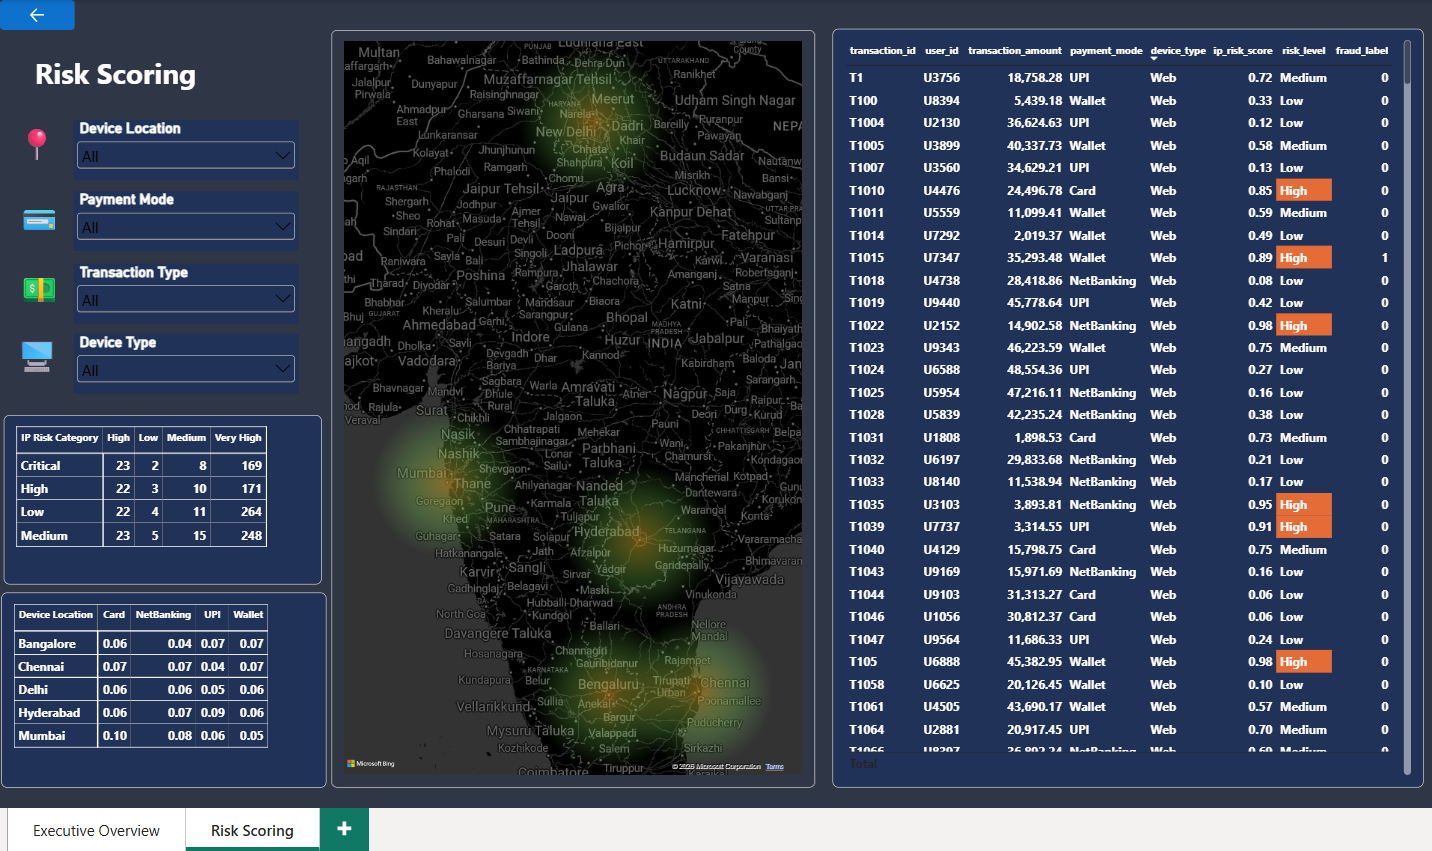

Layout of this report page (visuals, bound fields, positions):
{"tool":"powerbi","page":{"name":"Risk Scoring","canvas":[1920,1080],"ordinal":1},"visuals":[{"type":"tableEx","fields":{"Values":["02_Risk_Scored.transaction_id","02_Risk_Scored.user_id","02_Risk_Scored.transaction_amount","02_Risk_Scored.payment_mode","02_Risk_Scored.device_type","02_Risk_Scored.ip_risk_score","02_Risk_Scored.risk_level","02_Risk_Scored.fraud_label"]},"box":[1112.5,38.3,789.7,1014],"z":3000},{"type":"map","fields":{"Category":["01_Transactions_Fact.device_location"]},"box":[442.5,40.1,646.2,1011.9],"z":4000},{"type":"slicer","fields":{"Values":["01_Transactions_Fact.device_location"]},"box":[98,160,300.4,79.6],"z":6000},{"type":"slicer","fields":{"Values":["01_Transactions_Fact.payment_mode"]},"box":[98,256,300.4,79.6],"z":7000},{"type":"slicer","fields":{"Values":["01_Transactions_Fact.transaction_type"]},"box":[98,352,300.4,79.6],"z":8000},{"type":"slicer","fields":{"Values":["01_Transactions_Fact.device_type"]},"box":[98,446,300.4,79.6],"z":9000},{"type":"pivotTable","fields":{"Columns":["01_Transactions_Fact.payment_mode"],"Rows":["01_Transactions_Fact.device_location"],"Values":["01_Transactions_Fact.Fraud Rate %"]},"box":[1.8,791.5,434,260.8],"z":10000},{"type":"pivotTable","fields":{"Columns":["02_Risk_Scored.amount_category"],"Rows":["02_Risk_Scored.ip_risk_category"],"Values":["CountNonNull(02_Risk_Scored.risk_score)"]},"box":[5.5,554.4,424.9,226.1],"z":11000},{"type":"textbox","box":[5.5,71.1,299.1,78.4],"z":12000},{"type":"textbox","box":[20,162,60,76],"z":13000},{"type":"textbox","box":[24,256,76,78],"z":14000},{"type":"textbox","box":[24,352,76,78],"z":15000},{"type":"textbox","box":[20,446,72,76],"z":16000},{"type":"actionButton","box":[0,0,100,40],"z":16001}]}

Visuals, with their boxes on the page's 1920x1080 design canvas (x1, y1, x2, y2). These are canvas units, not pixel positions in the 1432x851 screenshot, which may show the page scaled, cropped or inside an application window:
tableEx - 02_Risk_Scored.transaction_id x 02_Risk_Scored.user_id: bbox=[1112, 38, 1902, 1052]
map - 01_Transactions_Fact.device_location: bbox=[442, 40, 1089, 1052]
slicer - 01_Transactions_Fact.device_location: bbox=[98, 160, 398, 240]
slicer - 01_Transactions_Fact.payment_mode: bbox=[98, 256, 398, 336]
slicer - 01_Transactions_Fact.transaction_type: bbox=[98, 352, 398, 432]
slicer - 01_Transactions_Fact.device_type: bbox=[98, 446, 398, 526]
pivotTable - 01_Transactions_Fact.payment_mode x 01_Transactions_Fact.device_location: bbox=[2, 792, 436, 1052]
pivotTable - 02_Risk_Scored.amount_category x 02_Risk_Scored.ip_risk_category: bbox=[6, 554, 430, 780]
textbox: bbox=[6, 71, 305, 150]
textbox: bbox=[20, 162, 80, 238]
textbox: bbox=[24, 256, 100, 334]
textbox: bbox=[24, 352, 100, 430]
textbox: bbox=[20, 446, 92, 522]
actionButton: bbox=[0, 0, 100, 40]
